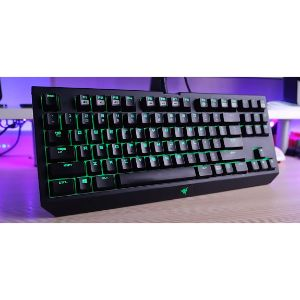keyboard: (25, 82, 285, 218)
